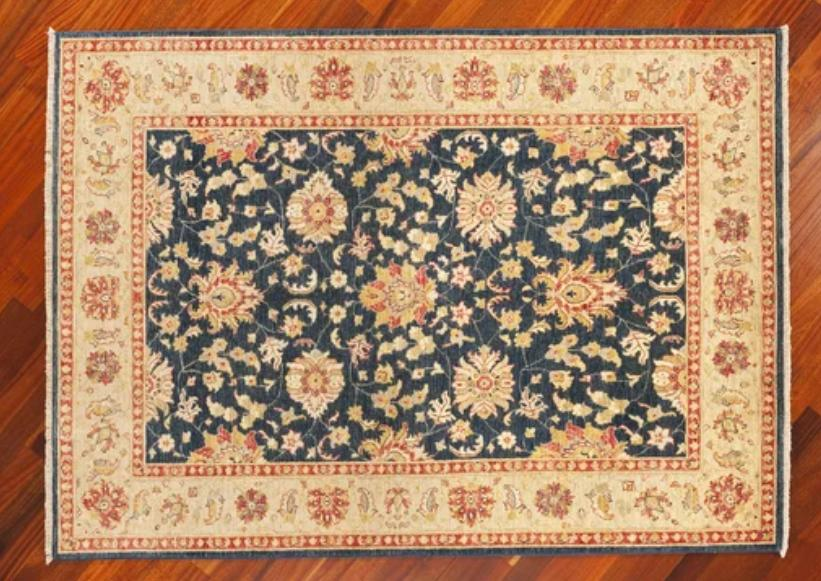carpet: (41, 27, 791, 560)
